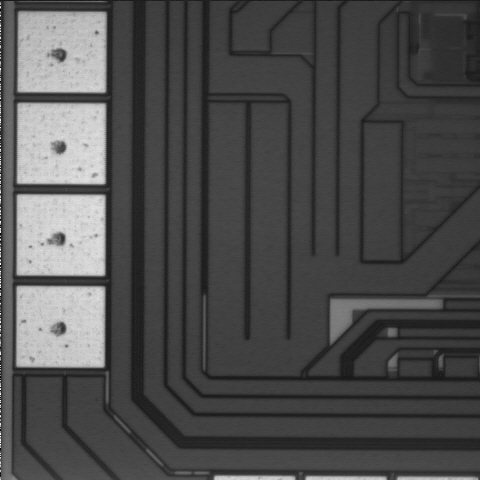pad: (17, 195, 105, 276), (17, 286, 104, 367), (17, 104, 105, 184), (18, 13, 105, 92)
